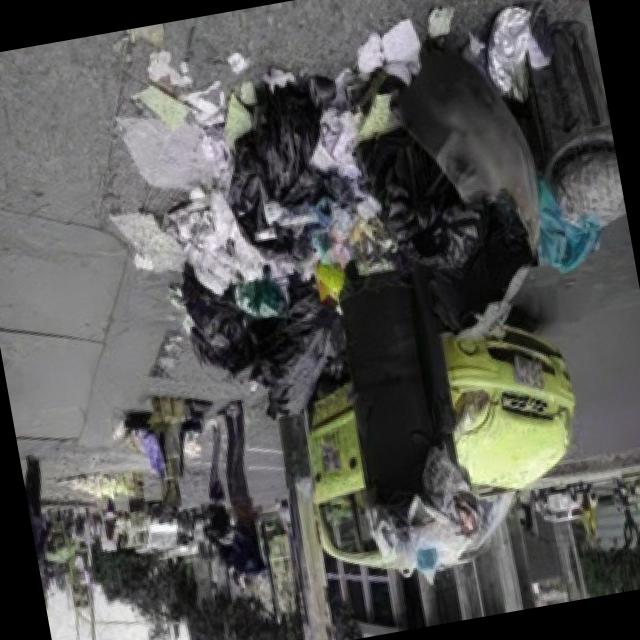high trash: (112, 8, 598, 412)
